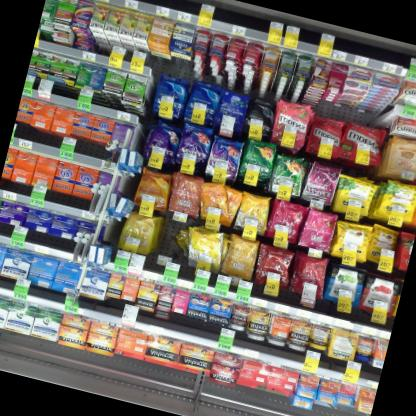empty_space: (152, 212, 195, 272)
